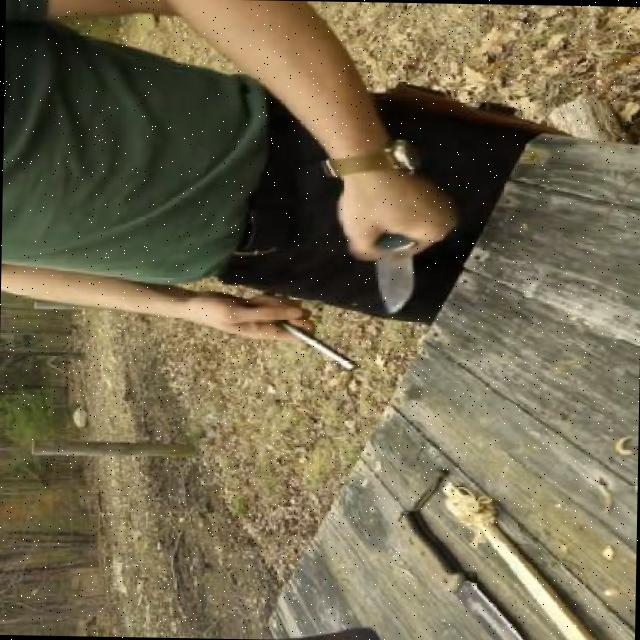Knife: (354, 219, 427, 316)
